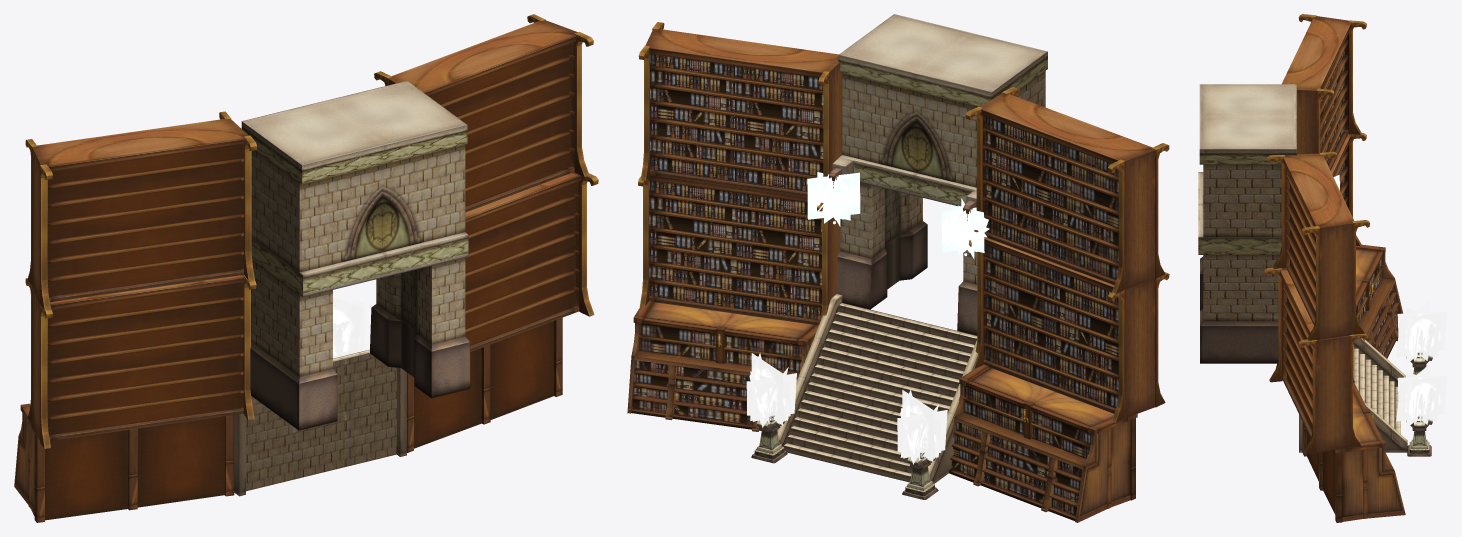
The model's file is a_fd05door02.glb.
3 renders of one model, left to right at view 1: azimuth 30°, elevation 25°; view 2: azimuth 150°, elevation 25°; view 3: azimuth 270°, elevation 25°, orthographic. The views are drawn at different scales.
Visible parts, largest first — view 1: a_fd05door02; view 2: a_fd05door02; view 3: a_fd05door02.
Part boxes in pixels (bbox=[...]): a_fd05door02: bbox=[14, 14, 598, 522]; a_fd05door02: bbox=[627, 14, 1169, 522]; a_fd05door02: bbox=[1198, 14, 1447, 522].
Bounding box in the file's own units: 17.17 × 11.27 × 8.34.
Materials: 15 (15 with a texture image).
